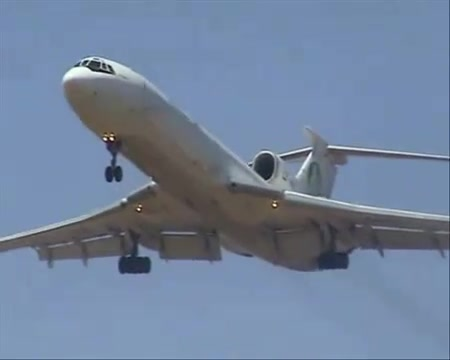aeroplane: (1, 51, 450, 277)
